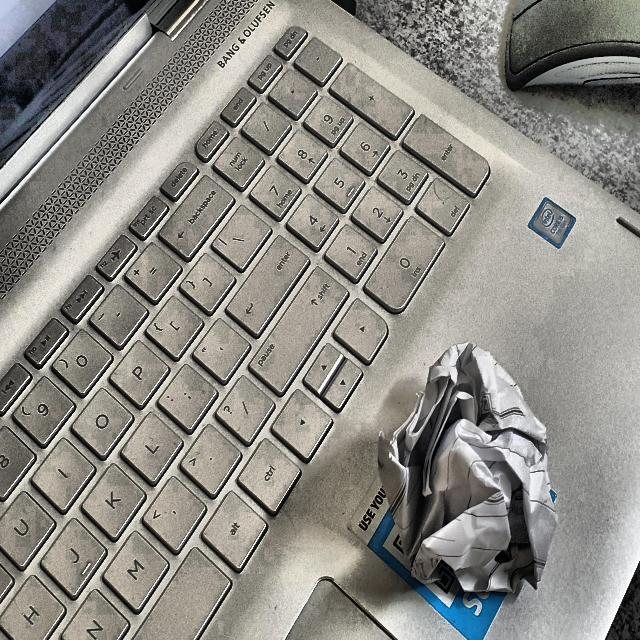paper: (373, 320, 568, 618)
